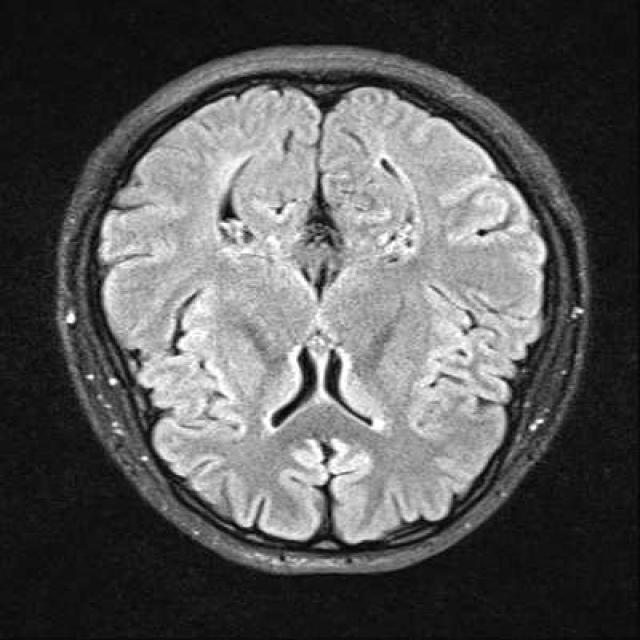notumor: (58, 48, 587, 573)
